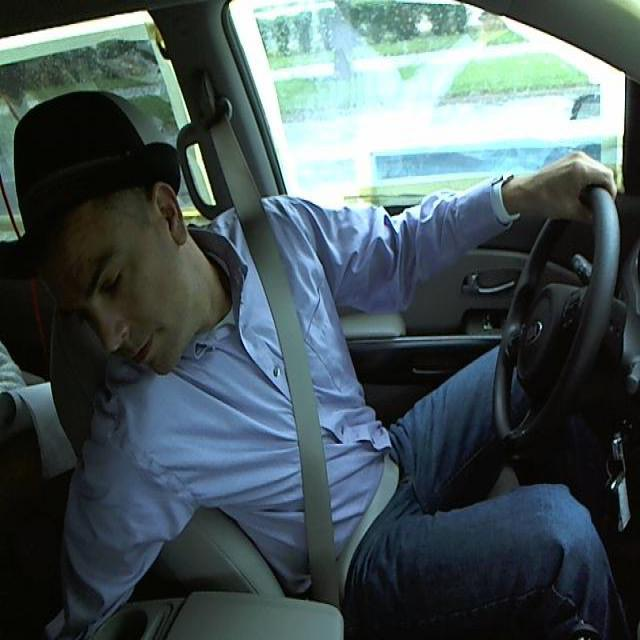seatbelt: (241, 229, 393, 562)
